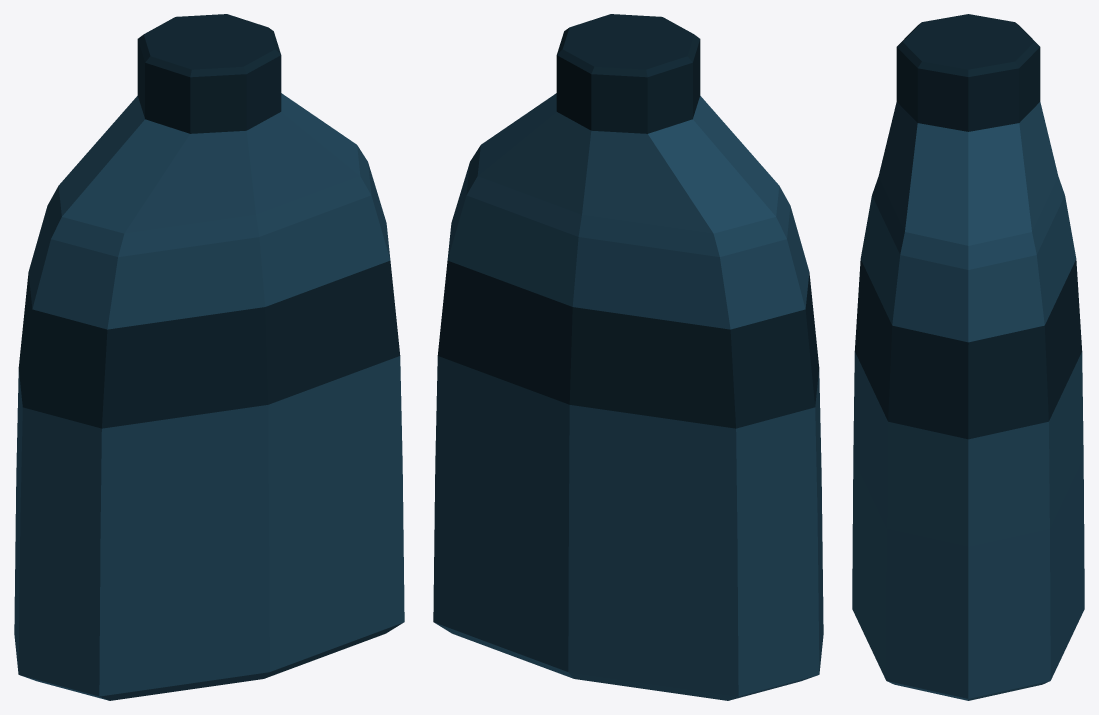
File: Canteen.fbx
3 views of the same model, side by side, from view 1: azimuth 30°, elevation 25°; view 2: azimuth 150°, elevation 25°; view 3: azimuth 270°, elevation 25° (orthographic). The views are drawn at different scales.
Parts seen in each view (by area): view 1: Canteen; view 2: Canteen; view 3: Canteen.
Boxes of the visible parts, x1=… form: Canteen: x1=14, y1=14, x2=404, y2=700; Canteen: x1=433, y1=14, x2=823, y2=700; Canteen: x1=852, y1=14, x2=1084, y2=700.
Bounding box in the file's own units: 0.304 × 0.4544 × 0.1658.
